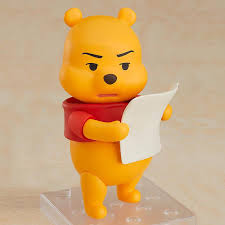Winnie: (58, 7, 154, 132)
